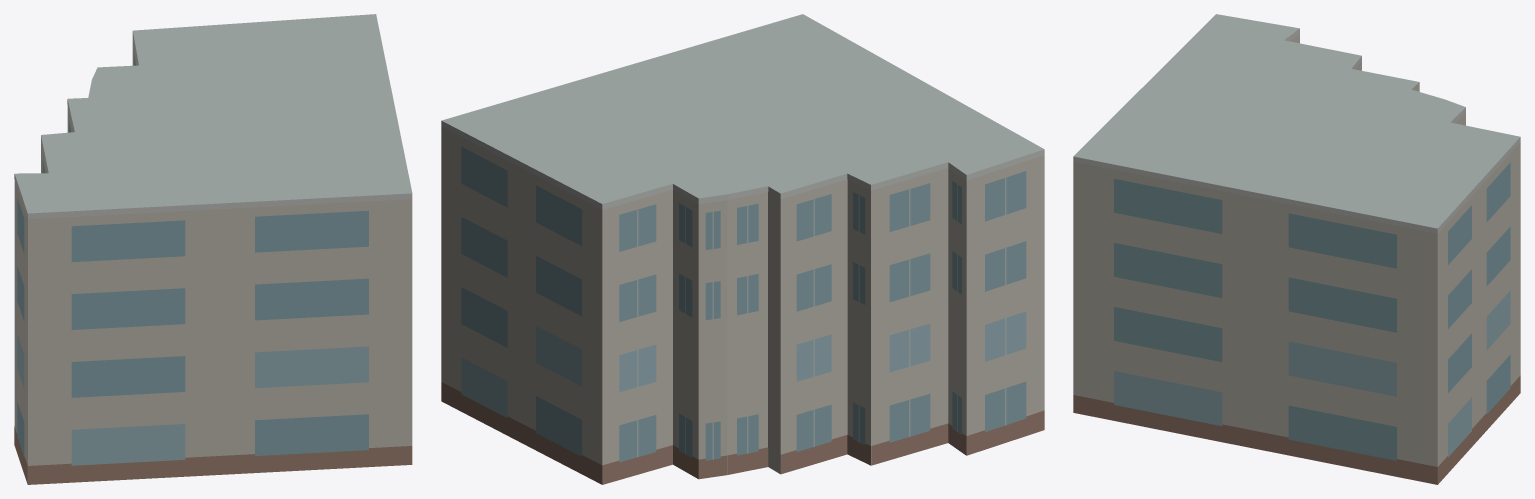
The model's file is survey-upis-32503078.glb.
The picture shows the model from 3 angles, left to right: view 1: azimuth 30°, elevation 25°; view 2: azimuth 150°, elevation 25°; view 3: azimuth 270°, elevation 25°; orthographic projection. The views are drawn at different scales.
Visible parts, largest first — view 1: survey-upis-32503078.tmp; view 2: survey-upis-32503078.tmp; view 3: survey-upis-32503078.tmp.
Part boxes in pixels (box(x1,y1,x2,y2)): survey-upis-32503078.tmp: box(14, 14, 412, 484); survey-upis-32503078.tmp: box(441, 14, 1044, 484); survey-upis-32503078.tmp: box(1073, 14, 1520, 484).
Size of the model in its own units: 21.29 by 11.85 by 18.75.
